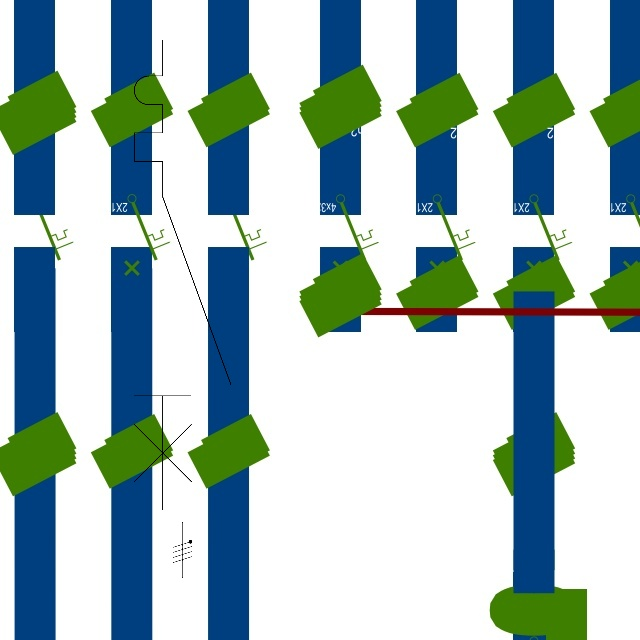interruptor_termomagnetico: (122, 28, 243, 522)
